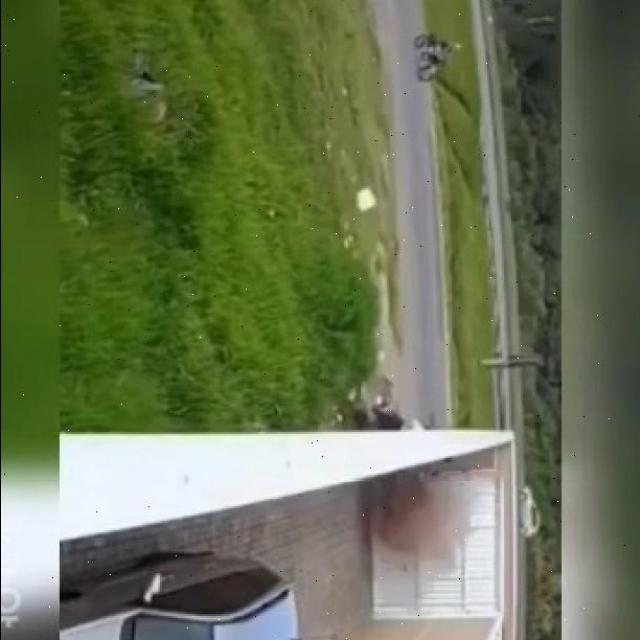accident: (358, 408, 473, 444)
